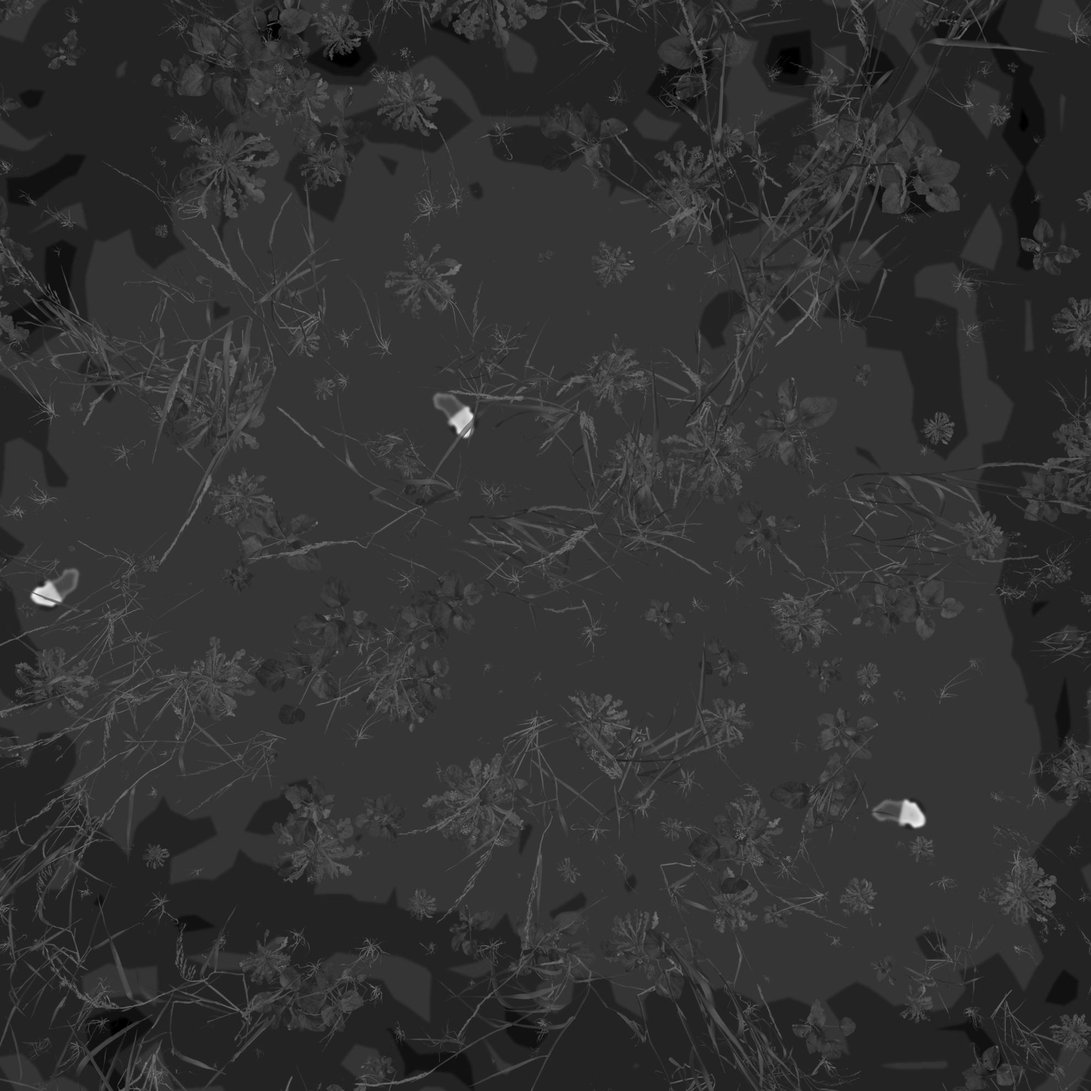landmine: (25, 561, 83, 609), (869, 791, 931, 834), (429, 387, 478, 440)
